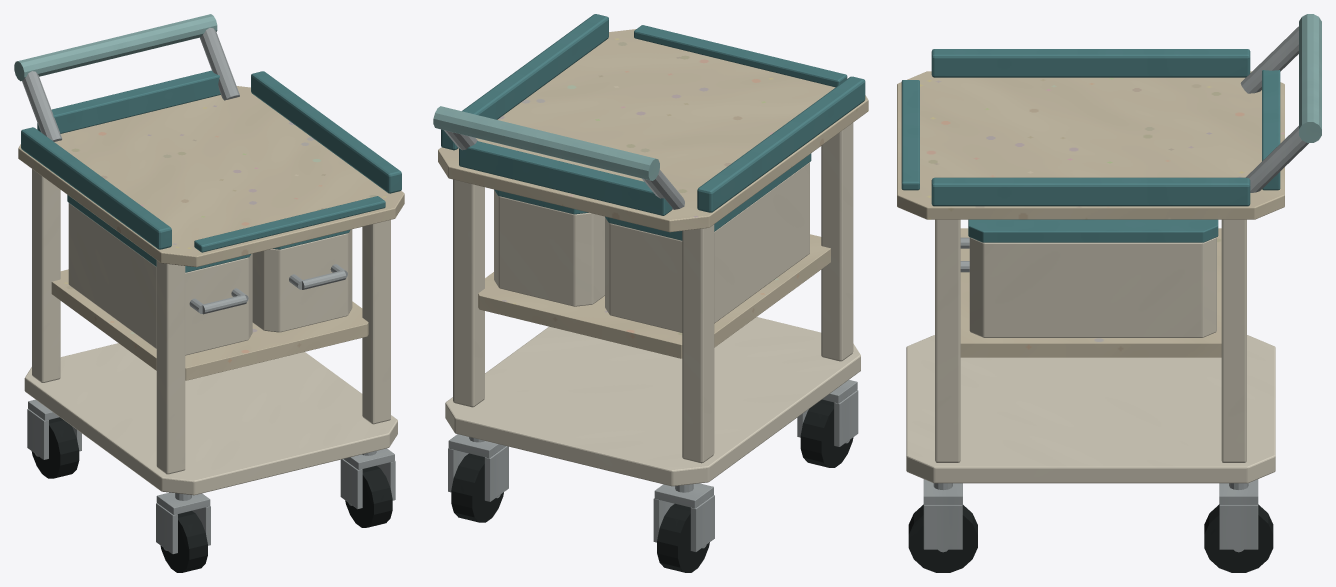
File: AST-MED-004.glb
The picture shows the model from 3 angles, left to right: view 1: azimuth 30°, elevation 25°; view 2: azimuth 150°, elevation 25°; view 3: azimuth 270°, elevation 25°; orthographic projection. The views are drawn at different scales.
Visible parts, largest first — view 1: AST-MED-004__ivory_enamel, AST-MED-004__warm_stone, AST-MED-004__care_bluegreen_resin, AST-MED-004__care_brushed_metal, AST-MED-004__dark_rubber, AST-MED-004__care_soft_pad; view 2: AST-MED-004__ivory_enamel, AST-MED-004__warm_stone, AST-MED-004__care_bluegreen_resin, AST-MED-004__care_brushed_metal, AST-MED-004__dark_rubber, AST-MED-004__care_soft_pad; view 3: AST-MED-004__ivory_enamel, AST-MED-004__warm_stone, AST-MED-004__care_bluegreen_resin, AST-MED-004__care_brushed_metal, AST-MED-004__dark_rubber, AST-MED-004__care_soft_pad.
Boxes of the visible parts, x1,y1,x2,y2 form: AST-MED-004__ivory_enamel: (24,169,397,495); AST-MED-004__warm_stone: (18,86,404,380); AST-MED-004__care_bluegreen_resin: (21,70,401,272); AST-MED-004__care_brushed_metal: (22,27,395,554); AST-MED-004__dark_rubber: (31,417,392,572); AST-MED-004__care_soft_pad: (14,14,217,81); AST-MED-004__ivory_enamel: (445,123,860,486); AST-MED-004__warm_stone: (438,29,868,358); AST-MED-004__care_bluegreen_resin: (441,14,865,240); AST-MED-004__care_brushed_metal: (444,130,858,551); AST-MED-004__dark_rubber: (451,399,853,572); AST-MED-004__care_soft_pad: (433,106,659,180); AST-MED-004__ivory_enamel: (906,219,1275,483); AST-MED-004__warm_stone: (897,71,1284,357); AST-MED-004__care_bluegreen_resin: (901,49,1280,242); AST-MED-004__care_brushed_metal: (923,26,1308,552); AST-MED-004__dark_rubber: (908,504,1273,572); AST-MED-004__care_soft_pad: (1299,14,1321,142).
Bounding box in the file's own units: 0.7 × 1.07 × 0.92.
6 materials, 6 textured.
